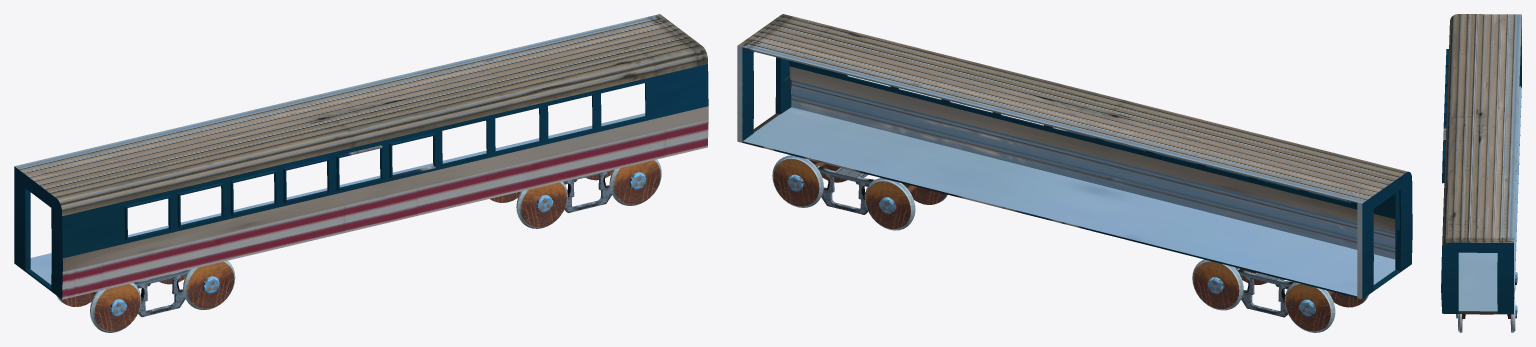
The model's file is Wagon.fbx.
3 views of the same model, side by side, from view 1: azimuth 30°, elevation 25°; view 2: azimuth 150°, elevation 25°; view 3: azimuth 270°, elevation 25° (orthographic). The views are drawn at different scales.
Parts seen in each view (by area): view 1: Train, Wheels.001, Wheels; view 2: Train, Wheels, Wheels.001; view 3: Train, Wheels.
Part boxes in pixels (box(x1,y1,x2,y2)): Train: box(14, 14, 708, 299); Wheels.001: box(56, 260, 235, 332); Wheels: box(490, 159, 661, 228); Train: box(737, 14, 1412, 299); Wheels: box(772, 155, 947, 230); Wheels.001: box(1192, 259, 1368, 332); Train: box(1441, 14, 1521, 314); Wheels: box(1456, 272, 1517, 332).
Size of the model in its own units: 359 by 537 by 2407.
